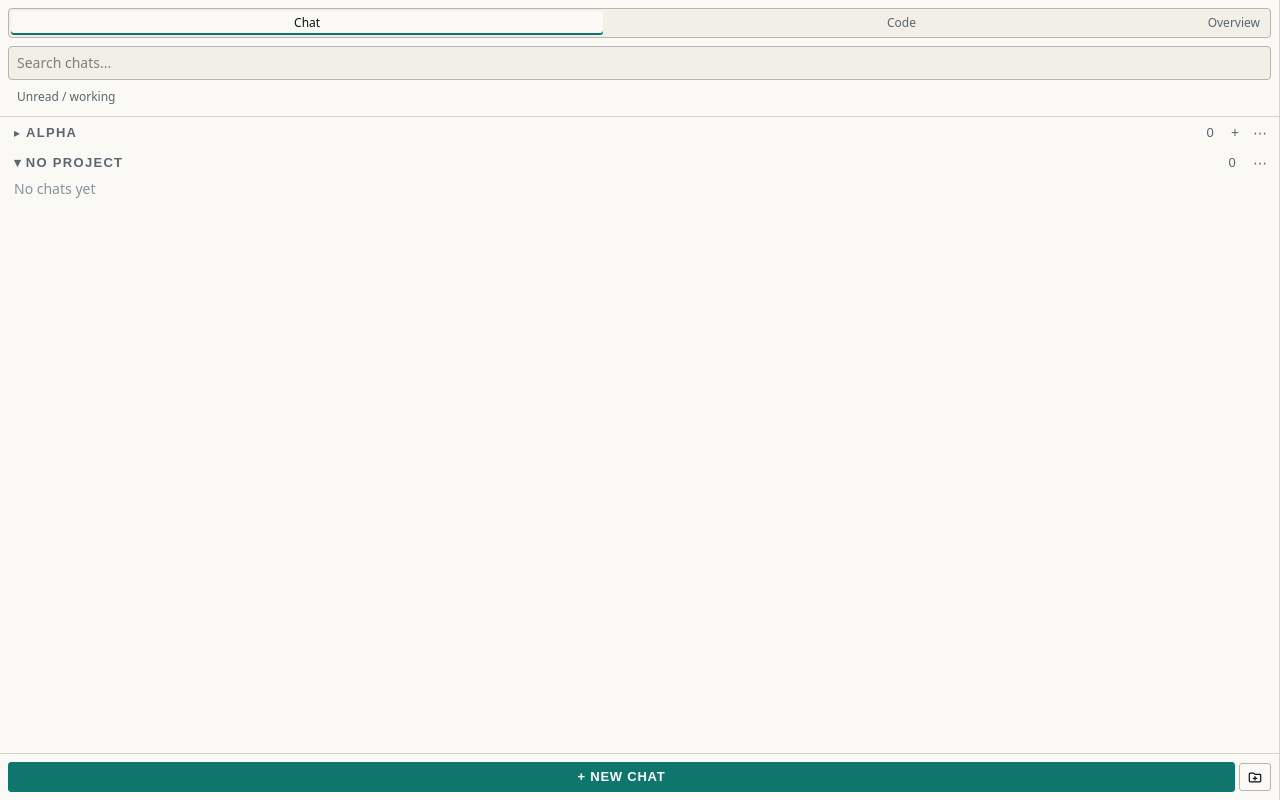
ChatList groups › a project's + creates a chat with only its projectId, opens it, and expands the group if it was collapsed (review focus 1)
The width and height of the screenshot is (1280, 800).
Click the button named "New chat in Alpha".
click(1235, 133)  # box left=1225, top=121, right=1245, bottom=145
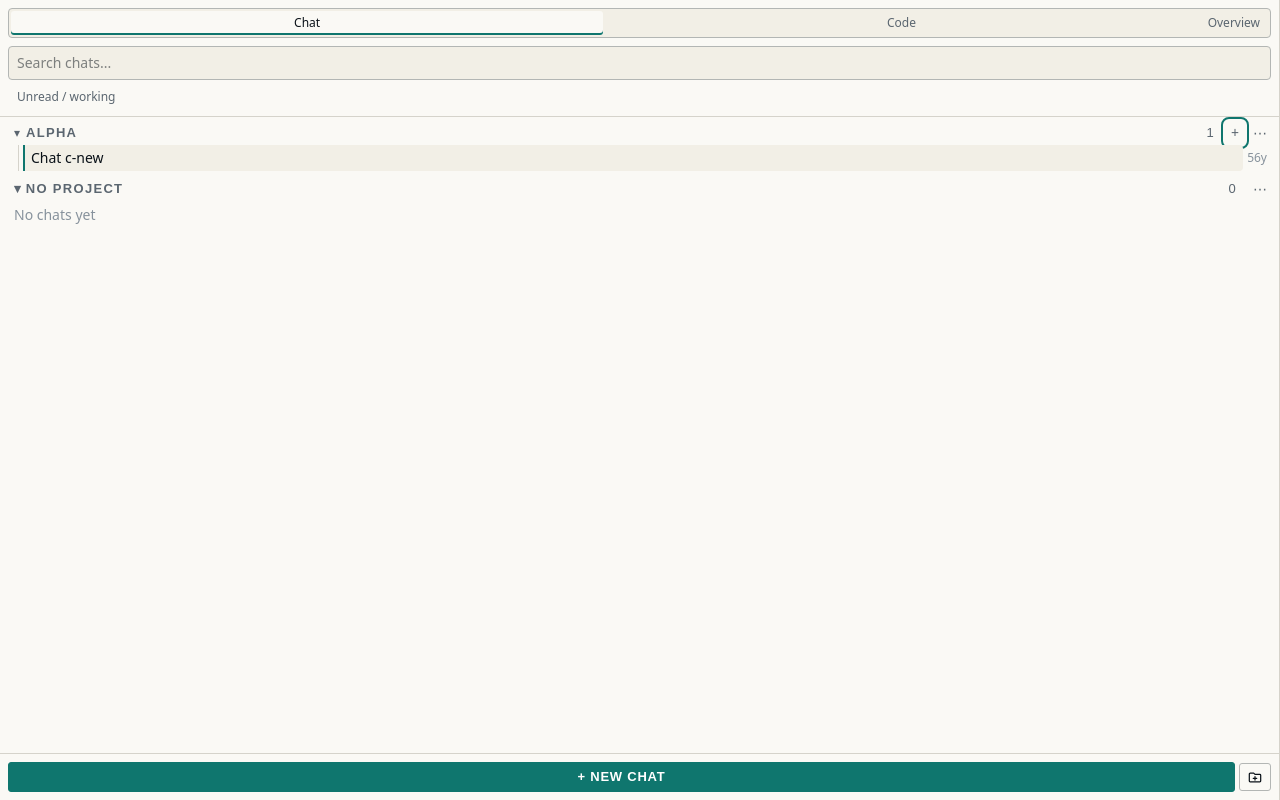
Result: the button named "Collapse Alpha" is expanded at left=6, top=121, right=20, bottom=145
